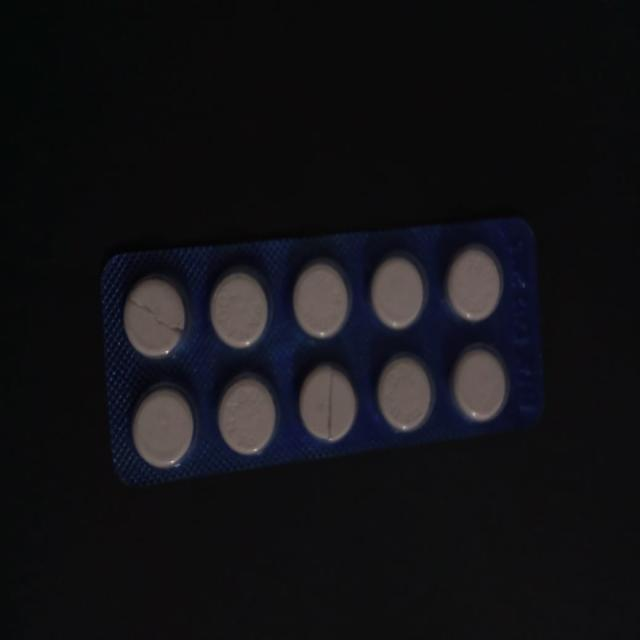defect: (121, 273, 189, 360), (298, 362, 359, 444)
